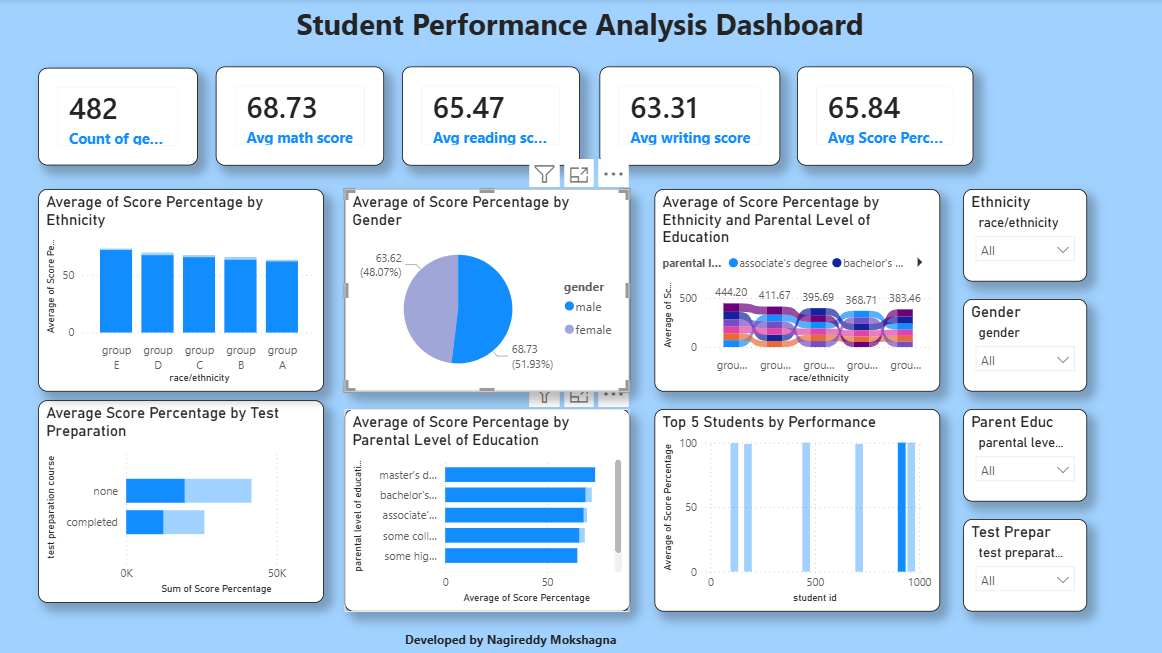

The page's visual inventory and layout, read from the dashboard file:
{"tool":"powerbi","page":{"name":"Page 1","canvas":[1280,720],"ordinal":0},"visuals":[{"type":"cardVisual","fields":{"Data":["Avg(StudentsPerformance.math score)"]},"box":[240,73.8,185,108.8],"z":0},{"type":"cardVisual","fields":{"Data":["Avg(StudentsPerformance.reading score)"]},"box":[445,73.8,195,108.8],"z":1000},{"type":"cardVisual","fields":{"Data":["Avg(StudentsPerformance.writing score)"]},"box":[661.2,73.8,198.8,108.8],"z":2000},{"type":"pieChart","title":"Average of Score Percentage by Gender","fields":{"Category":["StudentsPerformance.gender"],"Y":["Avg(StudentsPerformance.math score)"]},"box":[381.2,208.8,313.8,222.5],"z":3000},{"type":"clusteredBarChart","title":" Average Score Percentage by Test Preparation","fields":{"Y":["Sum(StudentsPerformance.Score Percentage)"],"Category":["StudentsPerformance.test preparation course"]},"box":[45,440,313.8,222.5],"z":4000},{"type":"textbox","box":[0,0,1280.3,68.6],"z":5000},{"type":"ribbonChart","title":"Average of Score Percentage by Ethnicity and Parental Level of Education","fields":{"Category":["StudentsPerformance.race/ethnicity"],"Y":["Avg(StudentsPerformance.Score Percentage)"],"Series":["StudentsPerformance.parental level of education"]},"box":[721.2,208.8,313.8,222.5],"z":6000},{"type":"cardVisual","fields":{"Data":["CountNonNull(StudentsPerformance.gender)"]},"box":[45,75,175,107.5],"z":7000},{"type":"cardVisual","fields":{"Data":["Avg(StudentsPerformance.Score Percentage)"]},"box":[878.8,73.8,193.8,108.8],"z":8000},{"type":"clusteredColumnChart","title":"Average of Score Percentage by Ethnicity","fields":{"Category":["StudentsPerformance.race/ethnicity"],"Y":["Avg(StudentsPerformance.Score Percentage)"]},"box":[45,208.8,313.8,222.5],"z":9000},{"type":"clusteredBarChart","title":"Average of Score Percentage by Parental Level of Education","fields":{"Category":["StudentsPerformance.parental level of education"],"Y":["Avg(StudentsPerformance.Score Percentage)"]},"box":[381.2,450,313.8,222.5],"z":10000},{"type":"clusteredColumnChart","title":"Top 5 Students by Performance","fields":{"Category":["StudentsPerformance.student id"],"Y":["Avg(StudentsPerformance.Score Percentage)"]},"box":[721.2,450,313.8,222.5],"z":11000},{"type":"slicer","title":"Ethnicity","fields":{"Values":["StudentsPerformance.race/ethnicity"]},"box":[1060.7,208.6,135.8,101.5],"z":12000},{"type":"slicer","title":"Gender","fields":{"Values":["StudentsPerformance.gender"]},"box":[1060.7,329.3,135.8,101.5],"z":13000},{"type":"slicer","title":"Parent Educ","fields":{"Values":["StudentsPerformance.parental level of education"]},"box":[1060.7,450.1,135.8,101.5],"z":14000},{"type":"slicer","title":"Test Prepar","fields":{"Values":["StudentsPerformance.test preparation course"]},"box":[1060.7,570.8,135.8,101.5],"z":15000},{"type":"textbox","box":[220,688.8,688.8,31.2],"z":16000}]}

Visuals, with their boxes in screenshot pixels (x1, y1, x2, y2), scaled from the page's 1280x720 canvas onto the 1162x653 screenshot:
cardVisual - Avg(StudentsPerformance.math score): region(218, 67, 386, 166)
cardVisual - Avg(StudentsPerformance.reading score): region(404, 67, 581, 166)
cardVisual - Avg(StudentsPerformance.writing score): region(600, 67, 781, 166)
"Average of Score Percentage by Gender" pieChart: region(346, 189, 631, 391)
" Average Score Percentage by Test Preparation" clusteredBarChart: region(41, 399, 326, 601)
textbox: region(0, 0, 1161, 62)
"Average of Score Percentage by Ethnicity and Parental Level of Education" ribbonChart: region(655, 189, 940, 391)
cardVisual - CountNonNull(StudentsPerformance.gender): region(41, 68, 200, 166)
cardVisual - Avg(StudentsPerformance.Score Percentage): region(798, 67, 974, 166)
"Average of Score Percentage by Ethnicity" clusteredColumnChart: region(41, 189, 326, 391)
"Average of Score Percentage by Parental Level of Education" clusteredBarChart: region(346, 408, 631, 610)
"Top 5 Students by Performance" clusteredColumnChart: region(655, 408, 940, 610)
"Ethnicity" slicer: region(963, 189, 1086, 281)
"Gender" slicer: region(963, 299, 1086, 391)
"Parent Educ" slicer: region(963, 408, 1086, 500)
"Test Prepar" slicer: region(963, 518, 1086, 610)
textbox: region(200, 625, 825, 652)
